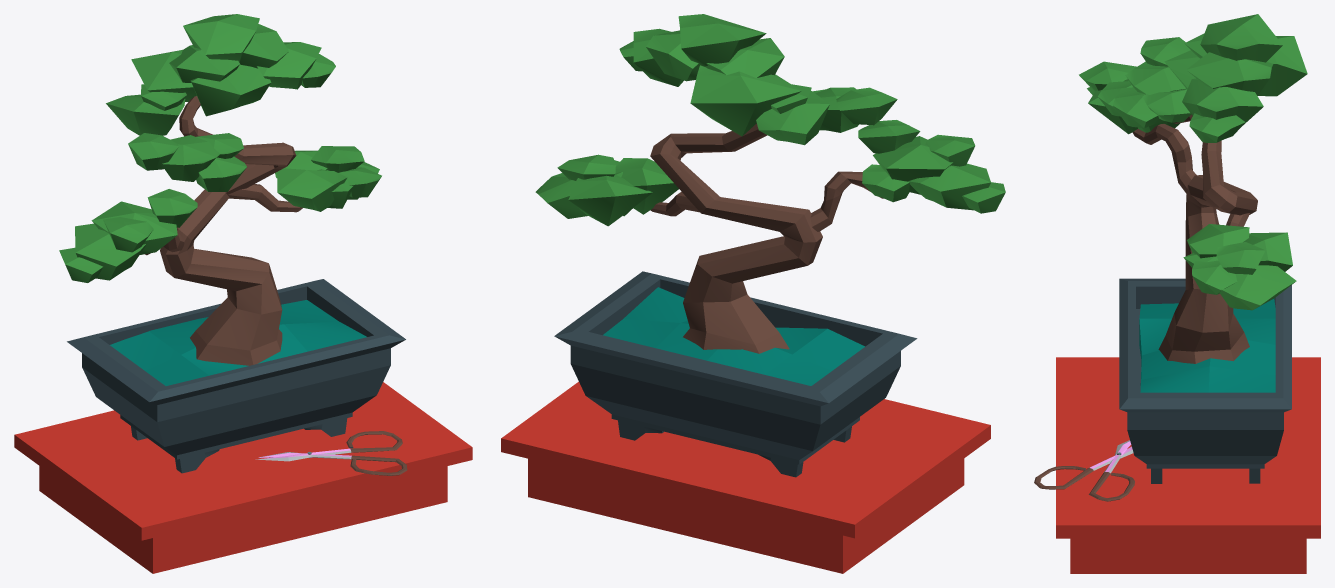
The picture shows the model from 3 angles, left to right: view 1: azimuth 30°, elevation 25°; view 2: azimuth 150°, elevation 25°; view 3: azimuth 270°, elevation 25°; orthographic projection. The views are drawn at different scales.
Visible parts, largest first — view 1: node_MeshObject121233408-PolyPaper17; view 2: node_MeshObject121233408-PolyPaper17; view 3: node_MeshObject121233408-PolyPaper17.
Boxes of the visible parts, left/top/right/bottom form: node_MeshObject121233408-PolyPaper17: left=14, top=14, right=472, bottom=573; node_MeshObject121233408-PolyPaper17: left=501, top=14, right=1005, bottom=573; node_MeshObject121233408-PolyPaper17: left=1034, top=14, right=1320, bottom=573.
Bounding box in the file's own units: 1.53 × 1.78 × 0.9741.
